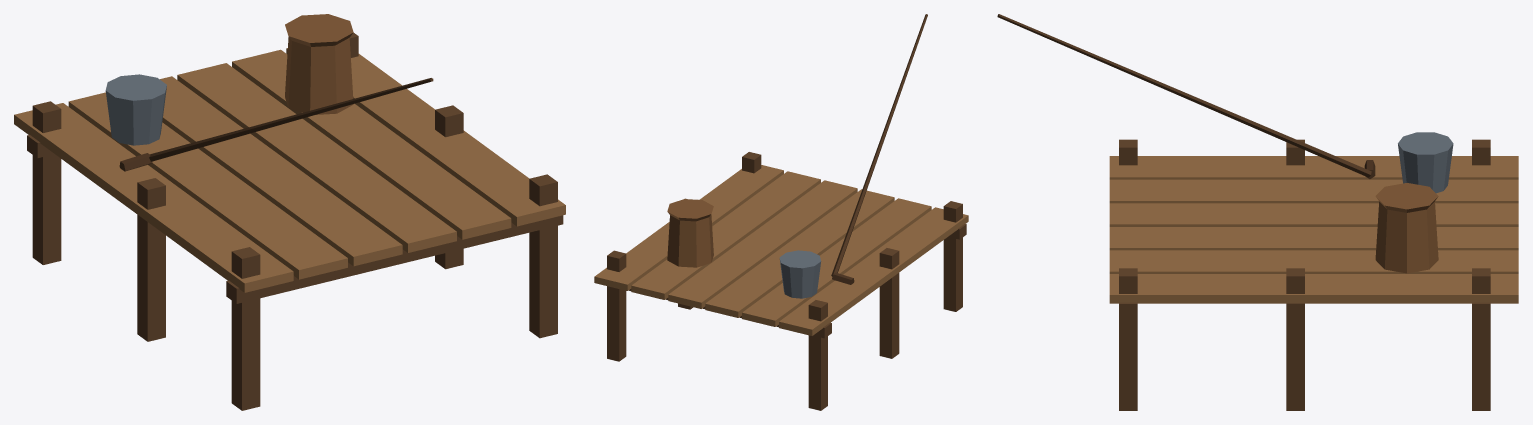
Rendered from Fishing_Pier.obj.
3 views of the same model, side by side, from view 1: azimuth 30°, elevation 25°; view 2: azimuth 150°, elevation 25°; view 3: azimuth 270°, elevation 25° (orthographic). The views are drawn at different scales.
Visible parts, largest first — view 1: Fishing_Pier; view 2: Fishing_Pier; view 3: Fishing_Pier.
Part boxes in pixels (x1,y1,x2,y2): Fishing_Pier: (14,14,565,410); Fishing_Pier: (594,14,968,410); Fishing_Pier: (997,14,1518,410).
Size of the model in its own units: 1.8 by 1.86 by 2.8.
